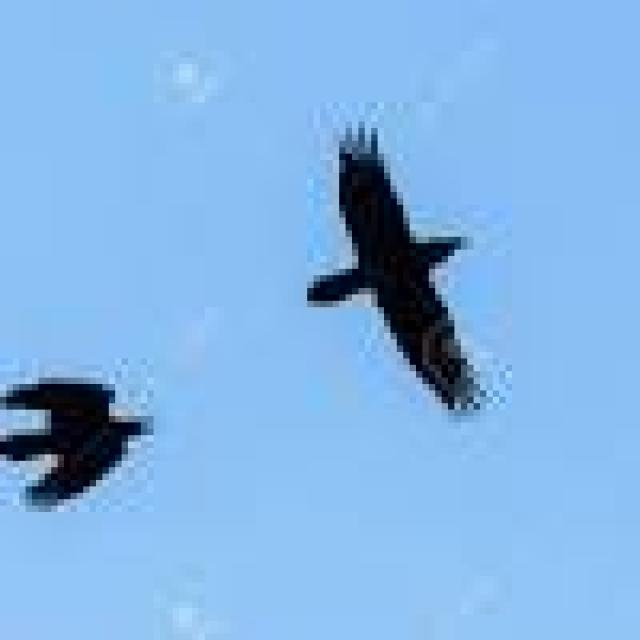bird: (301, 126, 538, 432), (2, 360, 164, 520)
